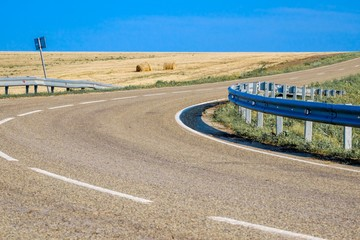rightTrun: (1, 75, 191, 207)
